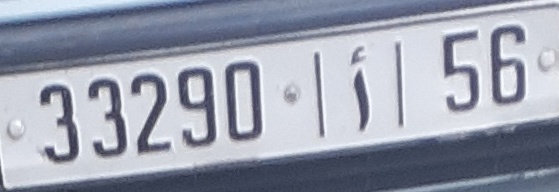0: (221, 56, 265, 144)
2: (131, 72, 175, 156)
3: (84, 77, 131, 160), (39, 82, 82, 166)
5: (438, 28, 480, 114)
6: (489, 24, 529, 110)
9: (176, 65, 219, 148)
a: (341, 44, 377, 131)
